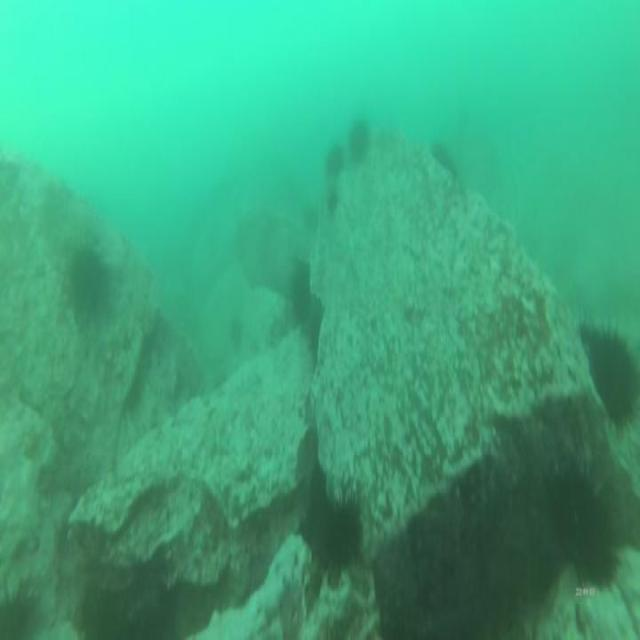echinus: (546, 460, 622, 602), (580, 314, 640, 433), (316, 482, 366, 580), (119, 565, 178, 640), (66, 242, 108, 313), (0, 577, 46, 640), (286, 255, 313, 327), (426, 136, 459, 186), (345, 112, 374, 168), (323, 138, 349, 178), (324, 182, 342, 229)
